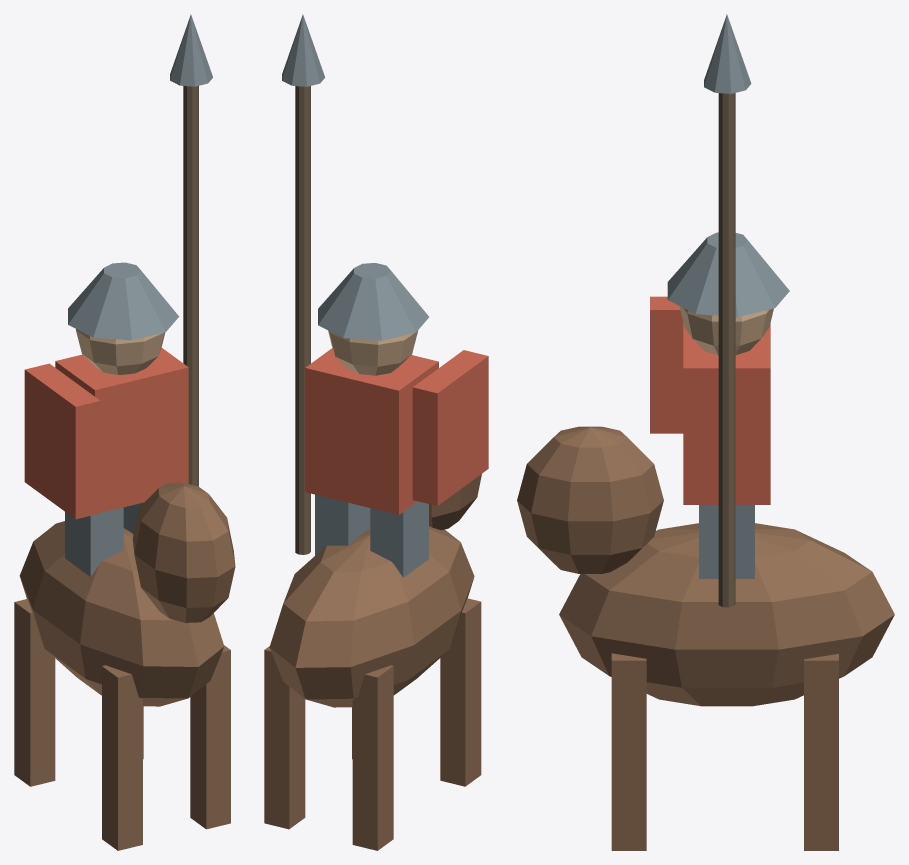
File: enemy_cavalry.glb
3 views of the same model, side by side, from view 1: azimuth 30°, elevation 25°; view 2: azimuth 150°, elevation 25°; view 3: azimuth 270°, elevation 25° (orthographic). The views are drawn at different scales.
Visible parts, largest first — view 1: Horse body.001, Tunic.003, Horse head.001, Shield.003, Horse leg.004, Horse leg.005, Horse leg.006, Helmet.003, Spear.003, Boot.006, Head.003, Spear point.003; view 2: Horse body.001, Tunic.003, Shield.003, Horse leg.005, Horse leg.004, Spear.003, Horse leg.007, Helmet.003, Boot.006, Head.003, Boot.007, Spear point.003 (+1 smaller); view 3: Horse body.001, Horse head.001, Tunic.003, Spear.003, Horse leg.006, Horse leg.007, Helmet.003, Shield.003, Boot.007, Head.003, Spear point.003.
Boxes of the visible parts, x1,y1,x2,y2 form: Horse body.001: (19, 521, 224, 706); Tunic.003: (55, 347, 188, 512); Horse head.001: (132, 482, 235, 622); Shield.003: (24, 363, 100, 519); Horse leg.004: (102, 665, 142, 850); Horse leg.005: (14, 599, 55, 786); Horse leg.006: (190, 645, 230, 829); Helmet.003: (68, 262, 179, 340); Spear.003: (183, 86, 198, 486); Boot.006: (65, 507, 123, 576); Head.003: (76, 329, 165, 374); Spear point.003: (170, 14, 212, 86); Horse body.001: (269, 526, 474, 707); Tunic.003: (305, 348, 438, 514); Shield.003: (412, 350, 488, 505); Horse leg.005: (352, 665, 393, 850); Horse leg.004: (440, 598, 481, 786); Spear.003: (295, 86, 310, 554); Horse leg.007: (264, 646, 305, 829); Helmet.003: (318, 263, 428, 340); Boot.006: (370, 501, 428, 577); Head.003: (328, 330, 418, 375); Boot.007: (315, 494, 370, 555); Spear point.003: (282, 14, 324, 86); Horse body.001: (559, 523, 894, 706); Horse head.001: (517, 426, 663, 573); Tunic.003: (683, 323, 770, 504); Spear.003: (718, 93, 735, 607); Horse leg.006: (611, 653, 646, 850); Horse leg.007: (804, 654, 838, 850); Helmet.003: (667, 232, 789, 317); Shield.003: (650, 296, 683, 433); Boot.007: (699, 505, 754, 578); Head.003: (679, 306, 773, 355); Spear point.003: (704, 14, 751, 93).
Bounding box in the file's own units: 0.6139 × 2.66 × 1.08.
